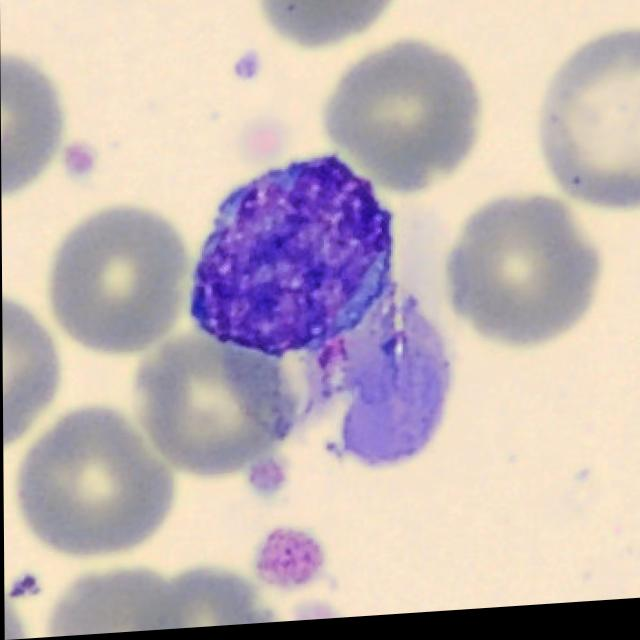Artefato: (324, 299, 453, 474)
Linfocito: (189, 158, 392, 357)
